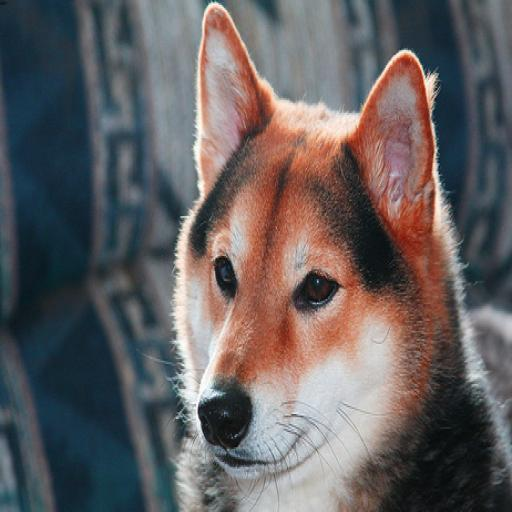dog_face: (187, 34, 427, 485)
